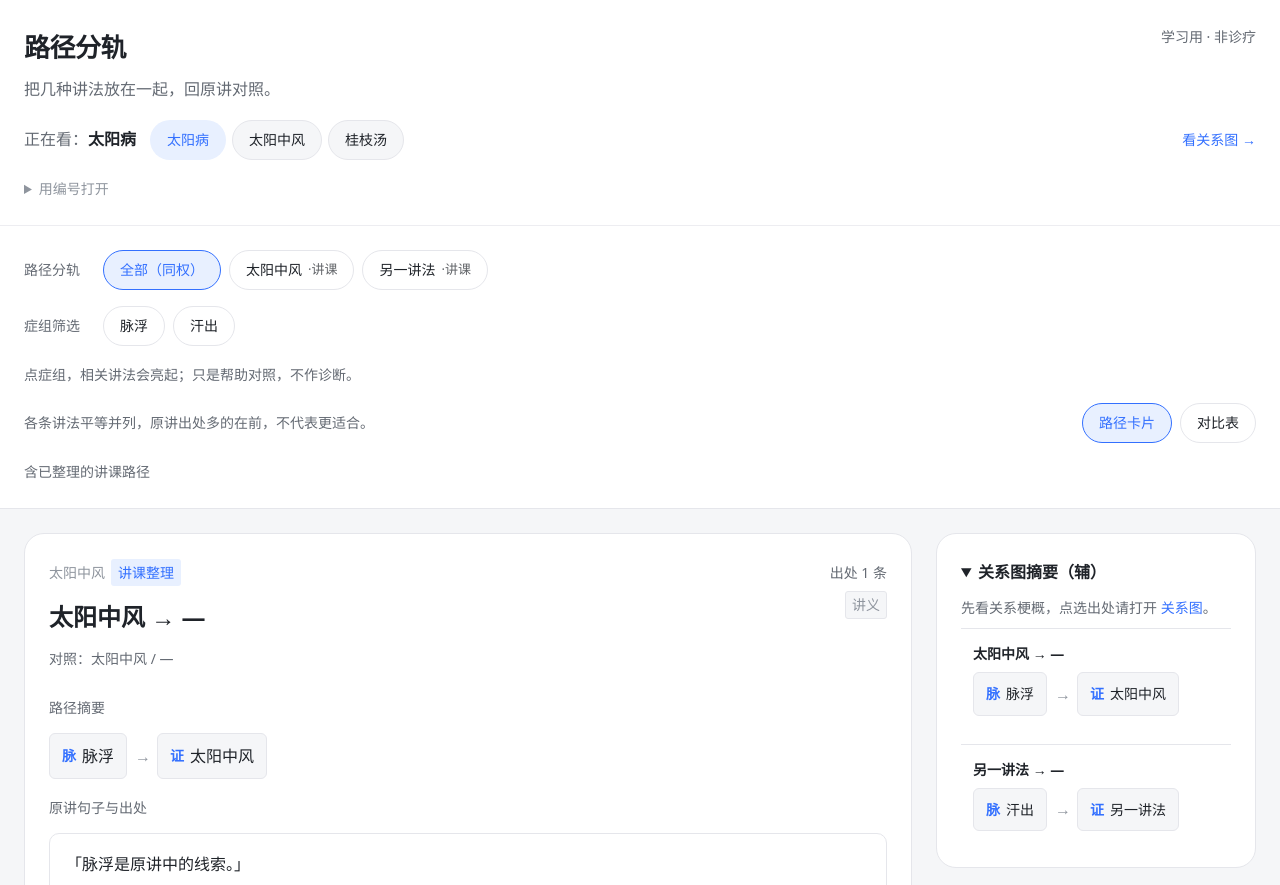
paths keep all/single-track tabs, symptom highlight/clear, mini summary and playback
The width and height of the screenshot is (1280, 885).
Expected: the tab "全部（同权）" is shown, x1=103 y1=250 x2=221 y2=290
Step 1. Click the button "脉浮" → {"x": 134, "y": 326}, box x1=103 y1=306 x2=165 y2=346
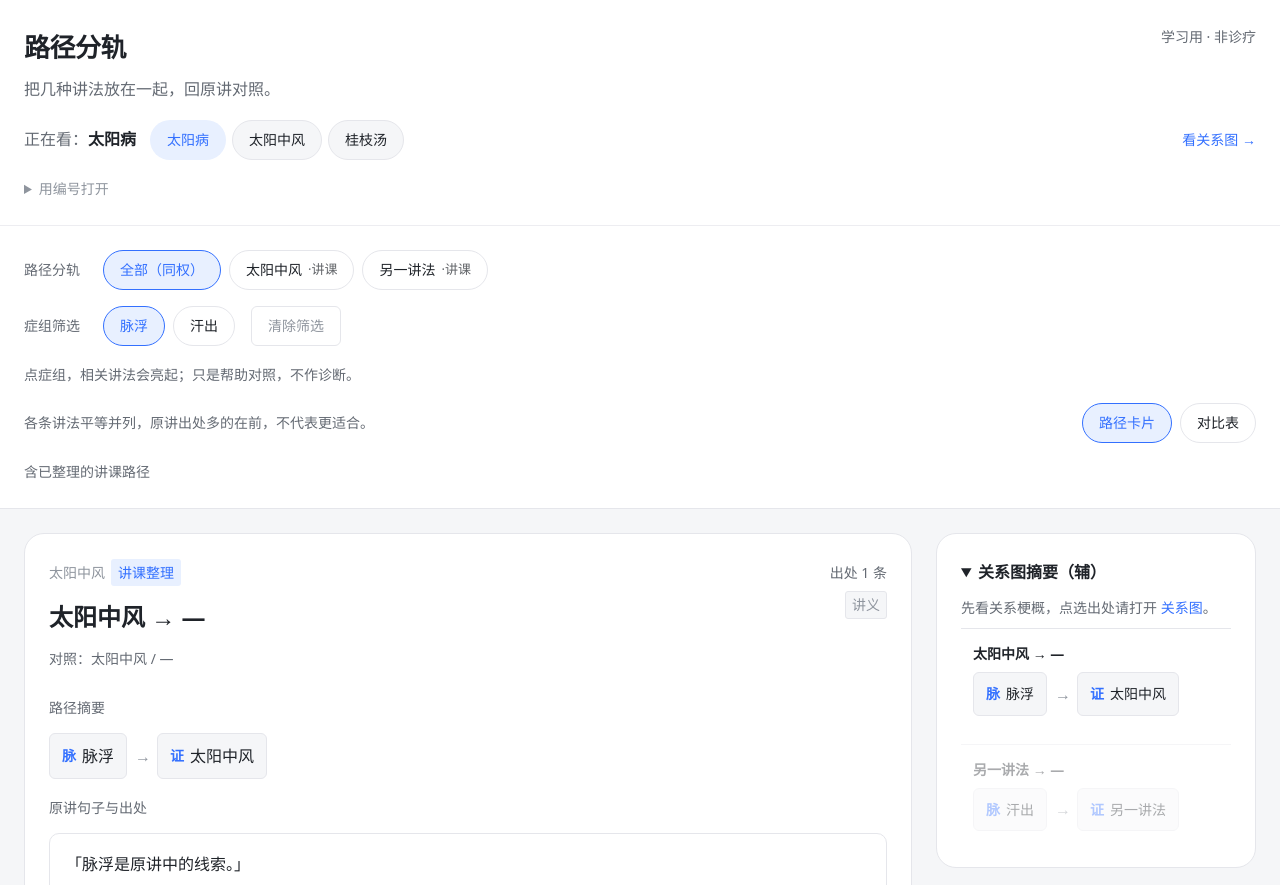
Step 2. Click the button "清除筛选" → {"x": 296, "y": 326}, box x1=251 y1=306 x2=341 y2=346
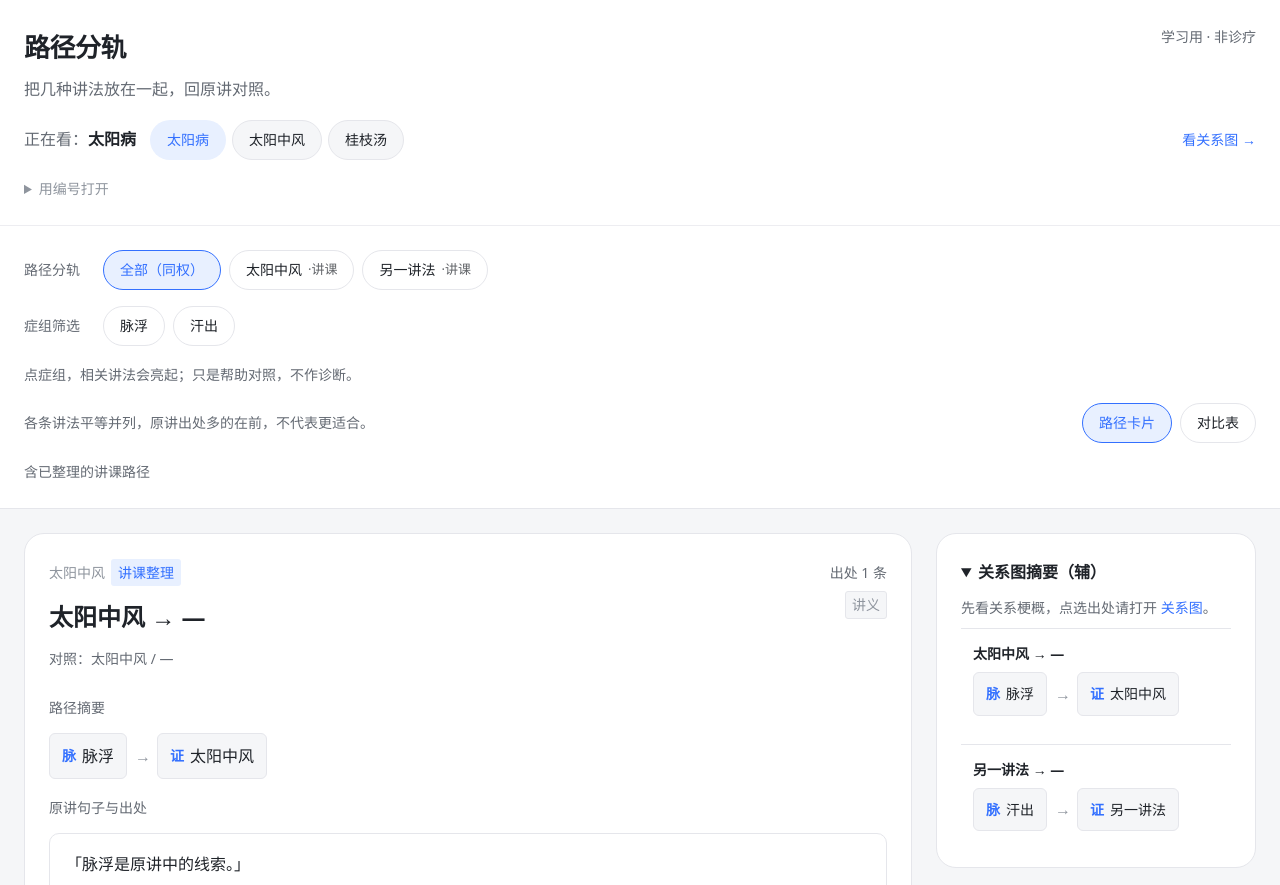
Step 3. Click the tab "太阳中风 ·讲课" → {"x": 292, "y": 270}, box x1=229 y1=250 x2=354 y2=290
(page scrolled)
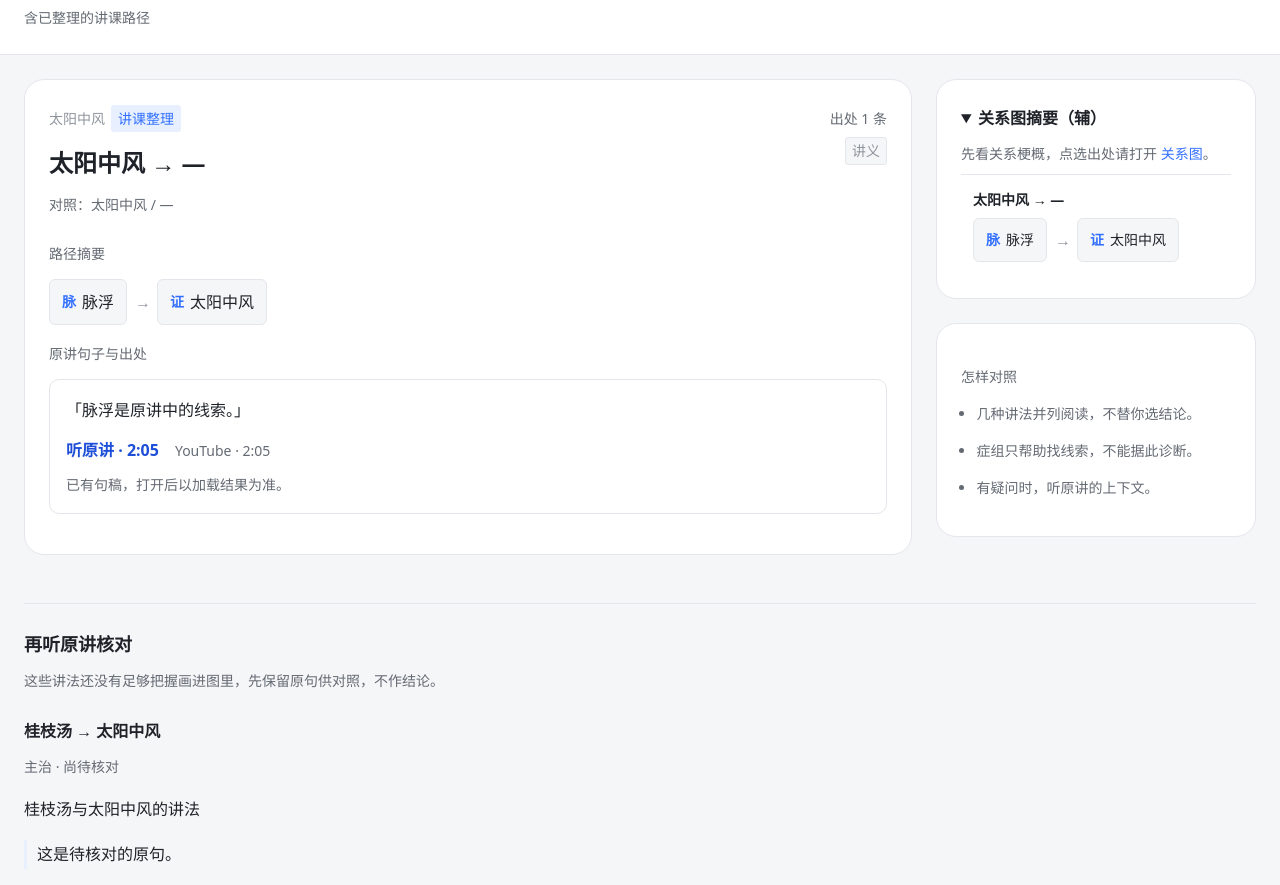
Expected: the heading "关系图摘要（辅）" is shown, x1=978 y1=107 x2=1106 y2=129
Now the number of elements with class "hyp-card" is 1, box x1=24 y1=79 x2=912 y2=555
